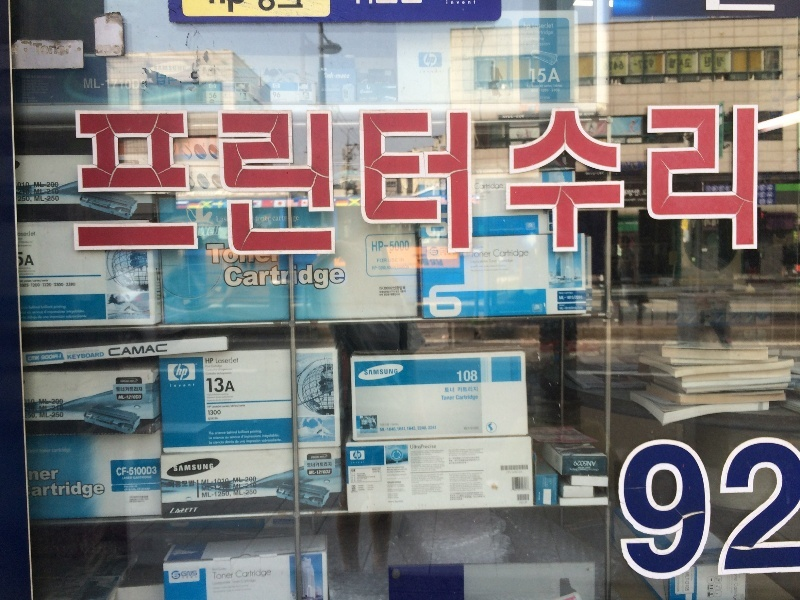text: (81, 107, 96, 257), (97, 107, 112, 257), (113, 107, 128, 257), (129, 107, 144, 257), (145, 107, 160, 257), (161, 107, 176, 257), (177, 107, 192, 257), (193, 107, 208, 257), (209, 107, 224, 257), (225, 107, 240, 257), (241, 107, 256, 257), (257, 107, 272, 257), (273, 107, 288, 257), (289, 107, 304, 257), (305, 107, 320, 257), (321, 107, 336, 257), (337, 107, 352, 257), (353, 107, 368, 257), (369, 107, 384, 257), (385, 107, 400, 257), (401, 107, 416, 257), (417, 107, 432, 257), (433, 107, 448, 257), (449, 107, 464, 257), (465, 107, 480, 257), (481, 107, 496, 257), (497, 107, 512, 257), (513, 107, 528, 257), (529, 107, 544, 257), (545, 107, 560, 257), (561, 107, 576, 257), (577, 107, 592, 257), (593, 107, 608, 257), (609, 107, 624, 257), (625, 107, 640, 257), (641, 107, 656, 257), (657, 107, 672, 257), (673, 107, 688, 257), (689, 107, 704, 257), (705, 107, 720, 257), (721, 107, 736, 257), (737, 107, 752, 257), (625, 437, 640, 583), (641, 437, 656, 583), (657, 437, 672, 583), (673, 437, 688, 583), (689, 437, 704, 583), (705, 437, 720, 583), (721, 437, 736, 583), (737, 437, 752, 583), (753, 437, 768, 583), (769, 437, 784, 583), (785, 437, 800, 583), (616, 437, 624, 583), (753, 107, 759, 257), (76, 107, 80, 257), (433, 284, 448, 318), (449, 284, 464, 318), (449, 472, 464, 501), (465, 472, 480, 501), (529, 24, 544, 52), (225, 264, 240, 290), (241, 264, 256, 290), (257, 264, 272, 290), (273, 264, 288, 290), (289, 264, 304, 290), (305, 264, 320, 290), (321, 264, 336, 290), (209, 242, 224, 264), (225, 242, 240, 264), (241, 242, 256, 264), (257, 242, 272, 264), (417, 450, 432, 472), (33, 481, 48, 502), (49, 481, 64, 502), (65, 481, 80, 502), (81, 481, 96, 502), (417, 474, 432, 495), (545, 24, 556, 52), (423, 284, 432, 318), (33, 399, 48, 419), (49, 399, 64, 419), (178, 363, 192, 382), (433, 450, 445, 472), (529, 68, 544, 85), (545, 68, 560, 85), (209, 379, 224, 395), (241, 579, 257, 594), (81, 77, 96, 93), (97, 77, 112, 93), (113, 77, 128, 93), (129, 77, 144, 93), (433, 474, 444, 495), (225, 579, 240, 594), (449, 449, 464, 464), (465, 449, 480, 464), (225, 568, 240, 582), (241, 568, 256, 582), (337, 264, 345, 290), (18, 252, 32, 266), (257, 568, 271, 582), (465, 369, 479, 383), (641, 58, 655, 72), (113, 344, 128, 357), (129, 344, 144, 357), (145, 344, 160, 357), (385, 241, 400, 254), (33, 43, 48, 56), (49, 43, 64, 56), (161, 72, 176, 85), (225, 379, 237, 395), (609, 61, 625, 73), (97, 481, 106, 502), (759, 184, 768, 205), (370, 241, 384, 254), (209, 1, 224, 13), (225, 1, 240, 13), (241, 1, 256, 13), (257, 1, 272, 13), (273, 1, 288, 13), (289, 1, 304, 13), (212, 579, 224, 594), (673, 58, 688, 70), (212, 568, 224, 582), (522, 24, 528, 52), (33, 470, 48, 481), (385, 286, 400, 297), (481, 261, 496, 272), (497, 261, 512, 272), (705, 57, 720, 68), (241, 489, 257, 499), (241, 482, 257, 492), (129, 466, 144, 476), (209, 366, 224, 376), (481, 183, 496, 193), (209, 489, 224, 499), (225, 489, 240, 499), (209, 482, 224, 492), (225, 482, 240, 492), (481, 472, 486, 501), (25, 399, 32, 419), (33, 353, 48, 362), (177, 571, 192, 580), (481, 251, 496, 260), (497, 251, 512, 260), (513, 251, 528, 260), (625, 189, 640, 198), (209, 476, 224, 485), (225, 476, 240, 485), (241, 476, 256, 485), (356, 450, 368, 461), (410, 450, 416, 472), (387, 467, 400, 477), (197, 226, 208, 237), (209, 226, 220, 237), (17, 182, 32, 190), (33, 182, 48, 190), (81, 352, 96, 360), (116, 466, 128, 476), (145, 466, 157, 476), (177, 464, 192, 472), (193, 464, 208, 472), (177, 480, 192, 488), (209, 394, 224, 402), (385, 264, 400, 272), (401, 264, 416, 272), (19, 267, 32, 276), (401, 241, 410, 254), (456, 369, 464, 383), (273, 242, 278, 264), (49, 470, 59, 481), (470, 261, 480, 272), (49, 353, 61, 362), (388, 484, 400, 493), (33, 189, 48, 196), (33, 196, 48, 203), (129, 496, 144, 503), (177, 507, 192, 514), (449, 395, 464, 402), (411, 474, 416, 495), (369, 369, 384, 376), (209, 92, 224, 99), (273, 92, 288, 99), (67, 352, 80, 360), (65, 43, 73, 56), (18, 189, 32, 196), (18, 196, 32, 203), (385, 369, 399, 376), (225, 357, 239, 364), (372, 264, 384, 272), (337, 72, 350, 79), (161, 344, 168, 357), (465, 395, 478, 402), (257, 216, 272, 222), (273, 216, 288, 222), (33, 448, 48, 454), (49, 448, 64, 454), (209, 434, 224, 440), (225, 434, 240, 440), (241, 434, 256, 440), (257, 434, 272, 440), (209, 439, 224, 445), (225, 439, 240, 445), (241, 439, 256, 445), (257, 439, 272, 445), (385, 426, 400, 432), (401, 426, 416, 432), (417, 426, 432, 432), (417, 444, 432, 450), (449, 387, 464, 393), (577, 461, 592, 467), (705, 186, 720, 192), (225, 366, 234, 376), (625, 162, 640, 168), (324, 72, 336, 79), (18, 231, 32, 237), (28, 481, 32, 502), (769, 184, 773, 205), (634, 58, 640, 72), (471, 251, 480, 260), (203, 379, 208, 395), (49, 182, 59, 190), (225, 394, 235, 402), (465, 387, 478, 393), (309, 469, 320, 476), (33, 310, 48, 315), (49, 310, 64, 315), (65, 310, 80, 315), (33, 315, 48, 320), (49, 315, 64, 320), (65, 315, 80, 320), (129, 487, 144, 492), (209, 404, 224, 409), (225, 404, 240, 409), (209, 430, 224, 435), (225, 430, 240, 435), (241, 430, 256, 435), (561, 296, 576, 301), (161, 66, 176, 71), (177, 384, 192, 389), (167, 480, 176, 488), (209, 410, 221, 416), (49, 189, 59, 196), (49, 196, 59, 203), (321, 469, 331, 476), (401, 467, 408, 477), (214, 357, 224, 364), (473, 183, 480, 193), (497, 183, 504, 193), (205, 242, 208, 264), (129, 387, 142, 392), (307, 462, 320, 467), (155, 72, 160, 85), (641, 189, 648, 198), (449, 1, 464, 5), (289, 216, 299, 222), (20, 283, 32, 288), (33, 306, 48, 310), (49, 306, 64, 310), (116, 387, 128, 392), (129, 395, 141, 400), (129, 476, 144, 480), (358, 485, 368, 491), (388, 494, 400, 499), (385, 259, 400, 263), (721, 186, 731, 192), (667, 58, 672, 70), (513, 115, 525, 120), (202, 489, 208, 499), (202, 482, 208, 492), (685, 573, 688, 592), (216, 216, 224, 223), (97, 352, 104, 360), (440, 395, 448, 402), (21, 310, 32, 315), (21, 315, 32, 320), (27, 470, 32, 481), (321, 462, 332, 467), (379, 286, 384, 297), (401, 286, 406, 297), (501, 115, 512, 120), (33, 267, 39, 276), (202, 476, 208, 485), (108, 344, 112, 357), (118, 395, 128, 400), (734, 575, 736, 600), (737, 575, 739, 600), (20, 306, 32, 310), (273, 439, 281, 445), (145, 77, 148, 93), (689, 58, 693, 70), (429, 53, 432, 68), (433, 53, 436, 68), (321, 89, 336, 92), (33, 280, 48, 283), (481, 449, 484, 464), (561, 307, 576, 310), (177, 66, 186, 71), (465, 1, 476, 5), (361, 89, 368, 95), (18, 238, 32, 241), (18, 241, 32, 244), (18, 245, 32, 248), (66, 283, 80, 286), (170, 507, 176, 514), (193, 507, 199, 514), (273, 434, 280, 440), (409, 444, 416, 450), (465, 427, 479, 430), (209, 359, 215, 366), (54, 283, 64, 287), (209, 464, 214, 472), (204, 366, 208, 376), (168, 384, 176, 389), (19, 280, 32, 283), (387, 481, 400, 484), (205, 1, 208, 13), (28, 353, 32, 362), (26, 448, 32, 454), (65, 448, 71, 454), (172, 571, 176, 580), (193, 571, 197, 580), (401, 484, 405, 493), (388, 501, 400, 504), (375, 259, 384, 263), (561, 292, 573, 295), (618, 162, 624, 168), (33, 283, 40, 288), (153, 66, 160, 71), (465, 284, 466, 318), (721, 57, 724, 68), (310, 456, 320, 459), (379, 426, 384, 432), (577, 296, 583, 301), (121, 476, 128, 480), (145, 476, 152, 480), (145, 496, 149, 503), (204, 359, 208, 366), (129, 485, 138, 488), (209, 417, 218, 420), (513, 471, 522, 474), (223, 264, 224, 290), (81, 315, 86, 320), (145, 487, 150, 492), (241, 404, 246, 409), (257, 430, 262, 435), (369, 89, 373, 95), (173, 464, 176, 472), (193, 480, 196, 488), (433, 444, 437, 450), (444, 387, 448, 393), (593, 461, 597, 467), (365, 369, 368, 376), (124, 487, 128, 492), (33, 231, 36, 237), (321, 456, 327, 459), (433, 426, 436, 432), (573, 461, 576, 467), (506, 471, 512, 474), (529, 251, 531, 260), (577, 307, 583, 310), (561, 68, 562, 85), (401, 259, 405, 263), (43, 284, 48, 287), (81, 310, 84, 315), (193, 384, 196, 389), (225, 216, 227, 223), (33, 252, 34, 266), (177, 72, 178, 85), (124, 485, 128, 488), (513, 261, 514, 272), (703, 57, 704, 68), (558, 296, 560, 301), (337, 89, 340, 92), (49, 284, 52, 287), (401, 501, 404, 504), (446, 1, 448, 5), (65, 306, 67, 310), (207, 394, 208, 402), (255, 216, 256, 222), (207, 410, 208, 416), (558, 292, 560, 295), (207, 404, 208, 409), (401, 481, 402, 484), (559, 307, 560, 310)
